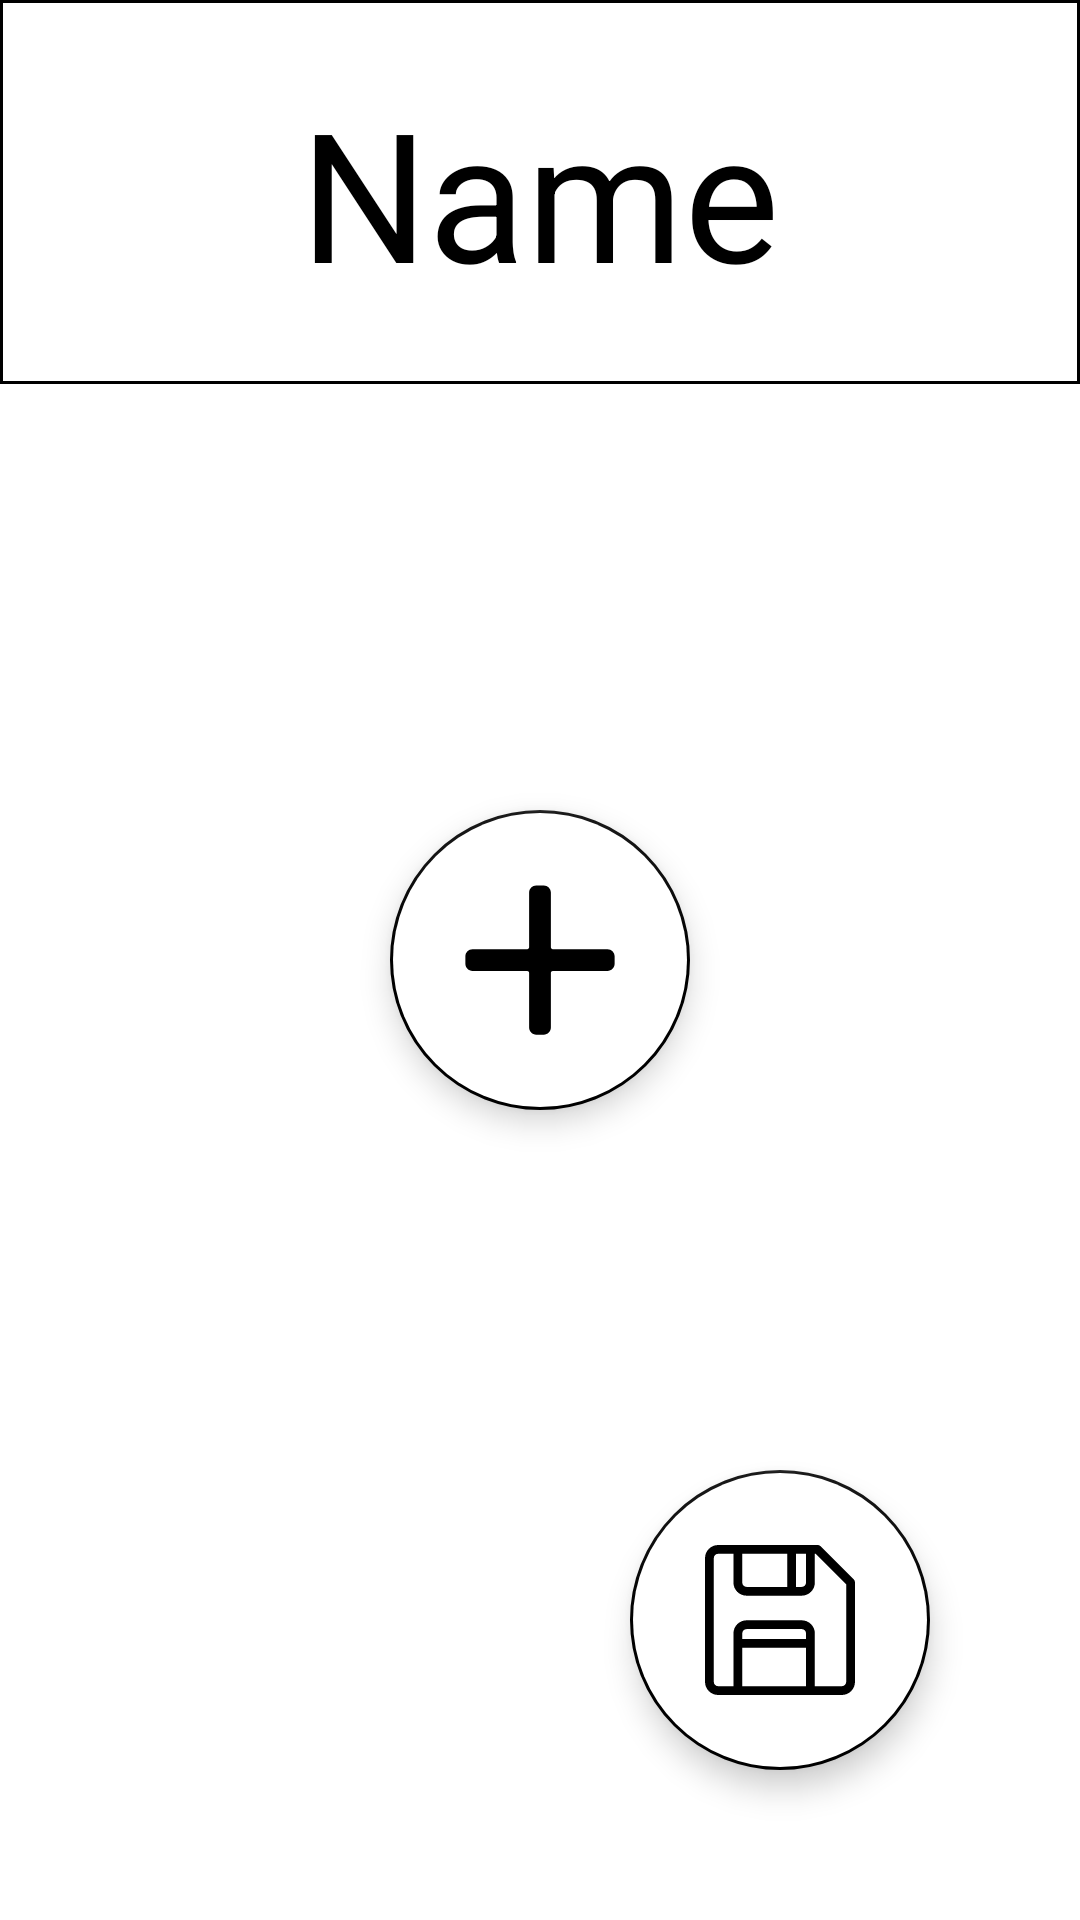

Icons on this 1080*1920 Android screen, each with the point to tap as point (x, y):
add fab: point (540, 960)
save: point (780, 1620)
